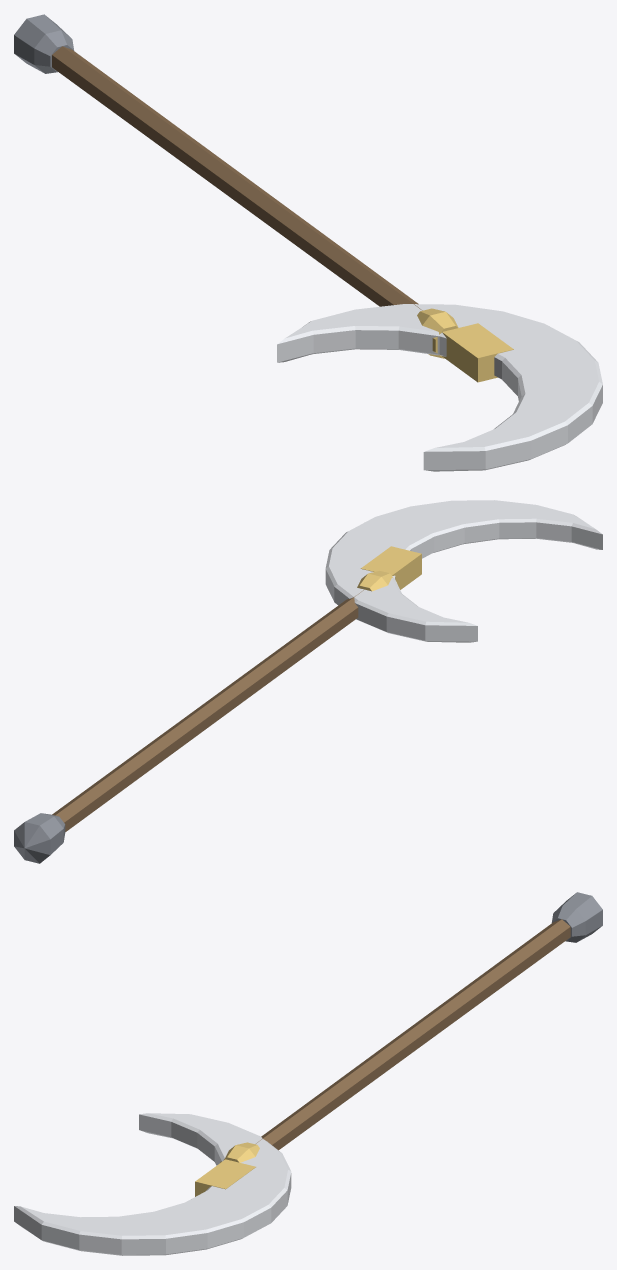
File: moonglaive.glb
The picture shows the model from 3 angles, top to bottom: view 1: azimuth 30°, elevation 25°; view 2: azimuth 150°, elevation 25°; view 3: azimuth 330°, elevation 25°; orthographic projection. The views are drawn at different scales.
Parts seen in each view (by area): view 1: moonglaive; view 2: moonglaive; view 3: moonglaive.
Boxes of the visible parts, x1,y1,x2,y2 form: moonglaive: (14,14,602,471); moonglaive: (14,500,602,863); moonglaive: (14,892,602,1255).
Size of the model in its own units: 0.4434 by 0.0831 by 1.86.
